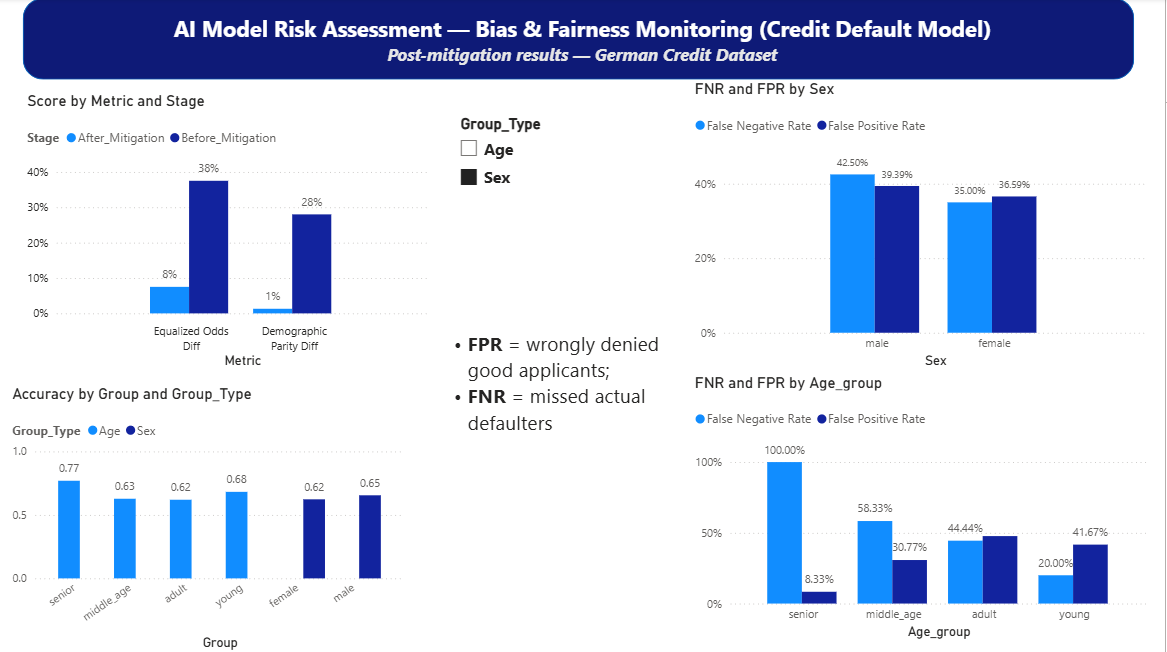

Layout of this report page (visuals, bound fields, positions):
{"tool":"powerbi","page":{"name":"FPR/FNR visual","canvas":[1280,720],"ordinal":1},"visuals":[{"type":"clusteredColumnChart","title":"Score by Metric and Stage","fields":{"Category":["fairness_summary.Metric"],"Series":["fairness_summary.Stage"],"Y":["Sum(fairness_summary.Score)"]},"box":[26.6,103.5,450.5,307.8],"z":0},{"type":"clusteredColumnChart","title":"Accuracy by Group and Group_Type","fields":{"Category":["accuracy_by_group.Group"],"Y":["Sum(accuracy_by_group.Accuracy)"],"Series":["accuracy_by_group.Group_Type"]},"box":[9.8,424,440.8,296.6],"z":1000},{"type":"clusteredColumnChart","title":"FNR and FPR by Sex","fields":{"Category":["model_results.Sex"],"Y":["model_results.False Negative Rate","model_results.False Positive Rate"]},"box":[758.4,89.5,506.5,321.8],"z":2000},{"type":"clusteredColumnChart","title":"FNR and FPR by Age_group","fields":{"Category":["model_results.Age_group"],"Y":["model_results.False Negative Rate","model_results.False Positive Rate"]},"box":[758.4,411.4,506.5,296.6],"z":3000},{"type":"textbox","box":[477.1,359.6,267.3,142.7],"z":4000},{"type":"slicer","fields":{"Values":["fairness_summary.Group_Type"]},"box":[493.9,123.1,184.7,107.7],"z":6000},{"type":"shape","box":[26.6,0,1220.1,89.5],"z":7000},{"type":"textbox","box":[51.8,12.6,1176.7,77],"z":7001}]}

Visuals, with their boxes in screenshot pixels (x1, y1, x2, y2), scaled from the page's 1280x720 canvas onto the 1167x652 screenshot:
"Score by Metric and Stage" clusteredColumnChart: <region>24, 94, 435, 372</region>
"Accuracy by Group and Group_Type" clusteredColumnChart: <region>9, 384, 411, 651</region>
"FNR and FPR by Sex" clusteredColumnChart: <region>691, 81, 1153, 372</region>
"FNR and FPR by Age_group" clusteredColumnChart: <region>691, 373, 1153, 641</region>
textbox: <region>435, 326, 679, 455</region>
slicer - fairness_summary.Group_Type: <region>450, 111, 619, 209</region>
shape: <region>24, 0, 1137, 81</region>
textbox: <region>47, 11, 1120, 81</region>
